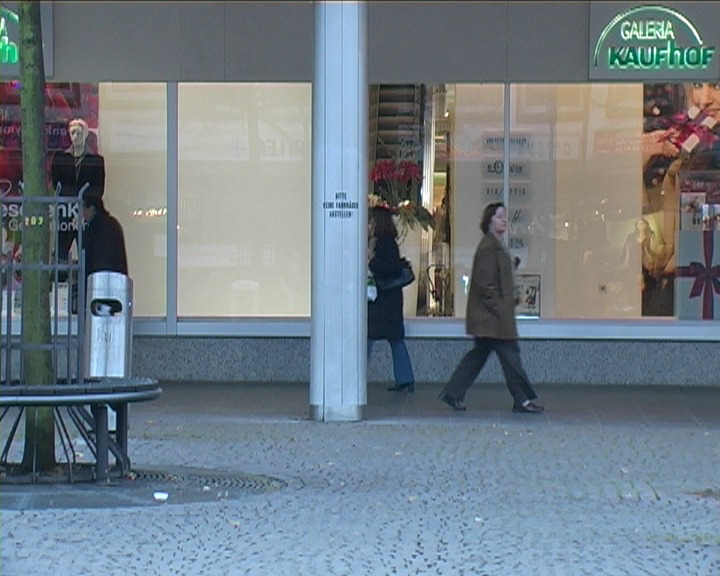deflection: (477, 201, 526, 301)
